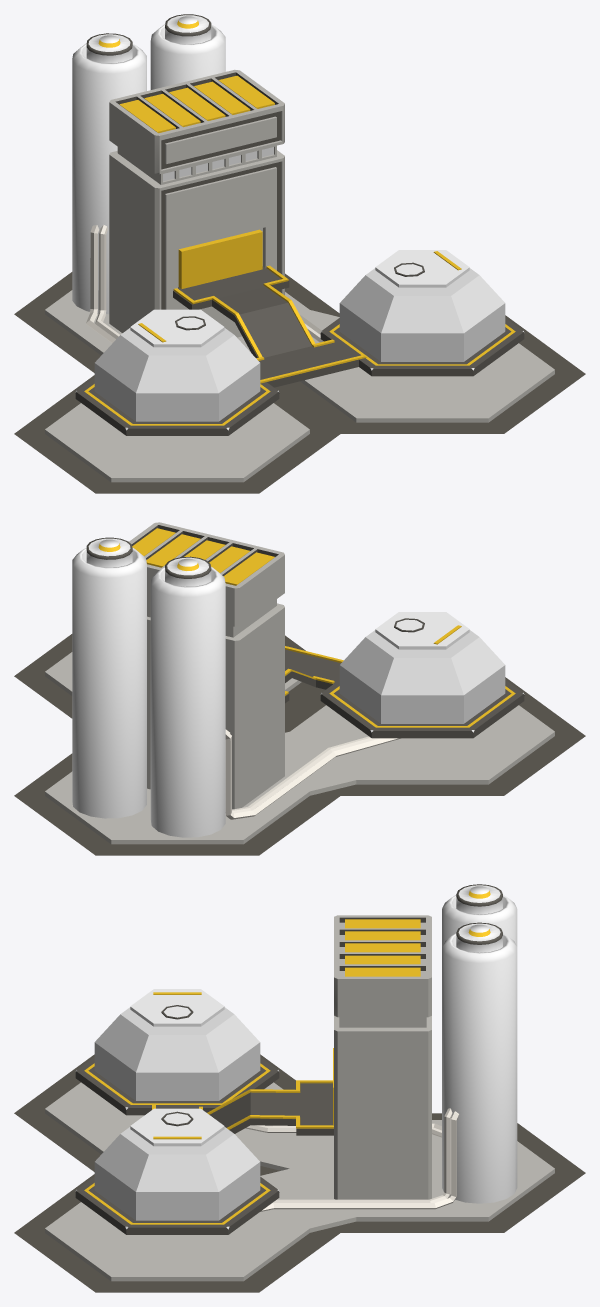
The model's file is zhongzi2.fbx.
3 views of the same model, one above another, from view 1: azimuth 30°, elevation 25°; view 2: azimuth 150°, elevation 25°; view 3: azimuth 270°, elevation 25° (orthographic).
Parts seen in each view (by area): view 1: Circle, Circle.001, Circle.004, Circle.005, Circle.002; view 2: Circle.005, Circle, Circle.001, Circle.004, Circle.002; view 3: Circle, Circle.004, Circle.001, Circle.005, Circle.002.
Boxes of the visible parts, left/top/right/bottom form: Circle: left=14, top=272, right=585, bottom=493; Circle.001: left=109, top=69, right=284, bottom=337; Circle.004: left=94, top=250, right=505, bottom=421; Circle.005: left=72, top=14, right=323, bottom=343; Circle.002: left=75, top=265, right=524, bottom=435; Circle.005: left=72, top=537, right=400, bottom=837; Circle: left=14, top=634, right=585, bottom=855; Circle.001: left=129, top=522, right=284, bottom=809; Circle.004: left=339, top=612, right=505, bottom=723; Circle.002: left=285, top=646, right=524, bottom=738; Circle: left=14, top=1054, right=585, bottom=1292; Circle.004: left=94, top=989, right=260, bottom=1220; Circle.001: left=333, top=915, right=431, bottom=1199; Circle.005: left=245, top=884, right=517, bottom=1211; Circle.002: left=75, top=1057, right=333, bottom=1234.
Size of what is drawn, in the model's own units: 346 by 181 by 350.
